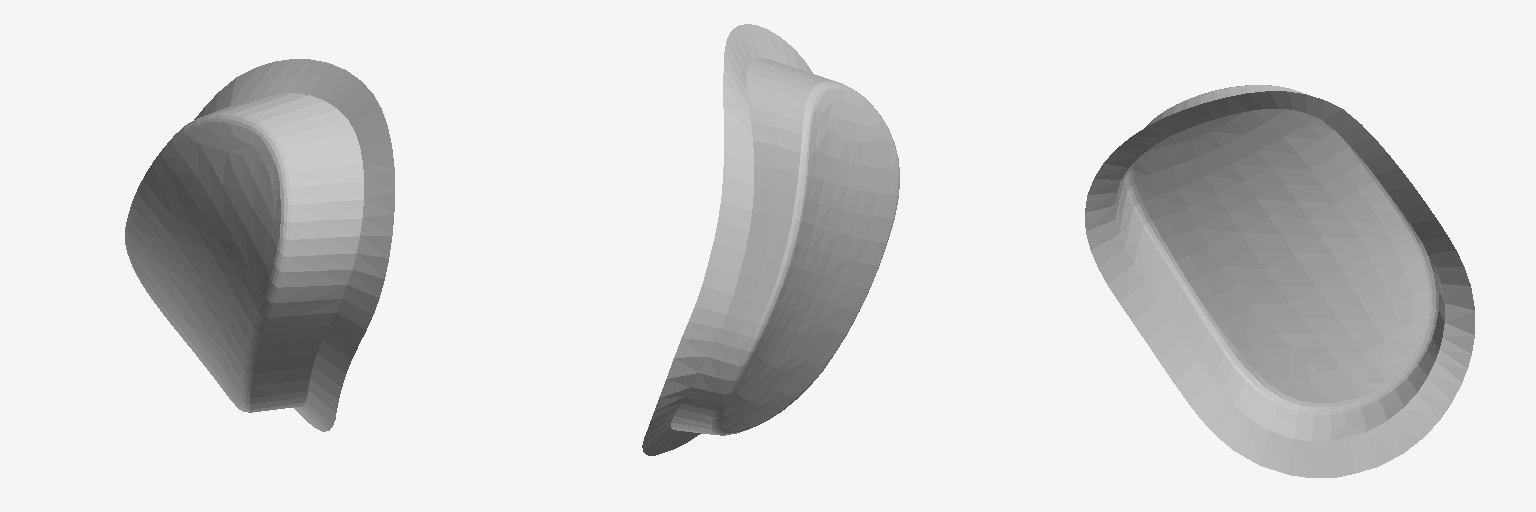
File: R_Grip.obj
3 views of the same model, side by side, from view 1: azimuth 30°, elevation 25°; view 2: azimuth 150°, elevation 25°; view 3: azimuth 270°, elevation 25° (orthographic).
Visible parts, largest first — view 1: __CM__Grip Mesh; view 2: __CM__Grip Mesh; view 3: __CM__Grip Mesh.
Part boxes in pixels (bbox=[...]): __CM__Grip Mesh: bbox=[125, 59, 394, 431]; __CM__Grip Mesh: bbox=[642, 24, 899, 455]; __CM__Grip Mesh: bbox=[1085, 85, 1474, 477].
Size of the model in its own units: 0.0104 by 0.0274 by 0.0254.